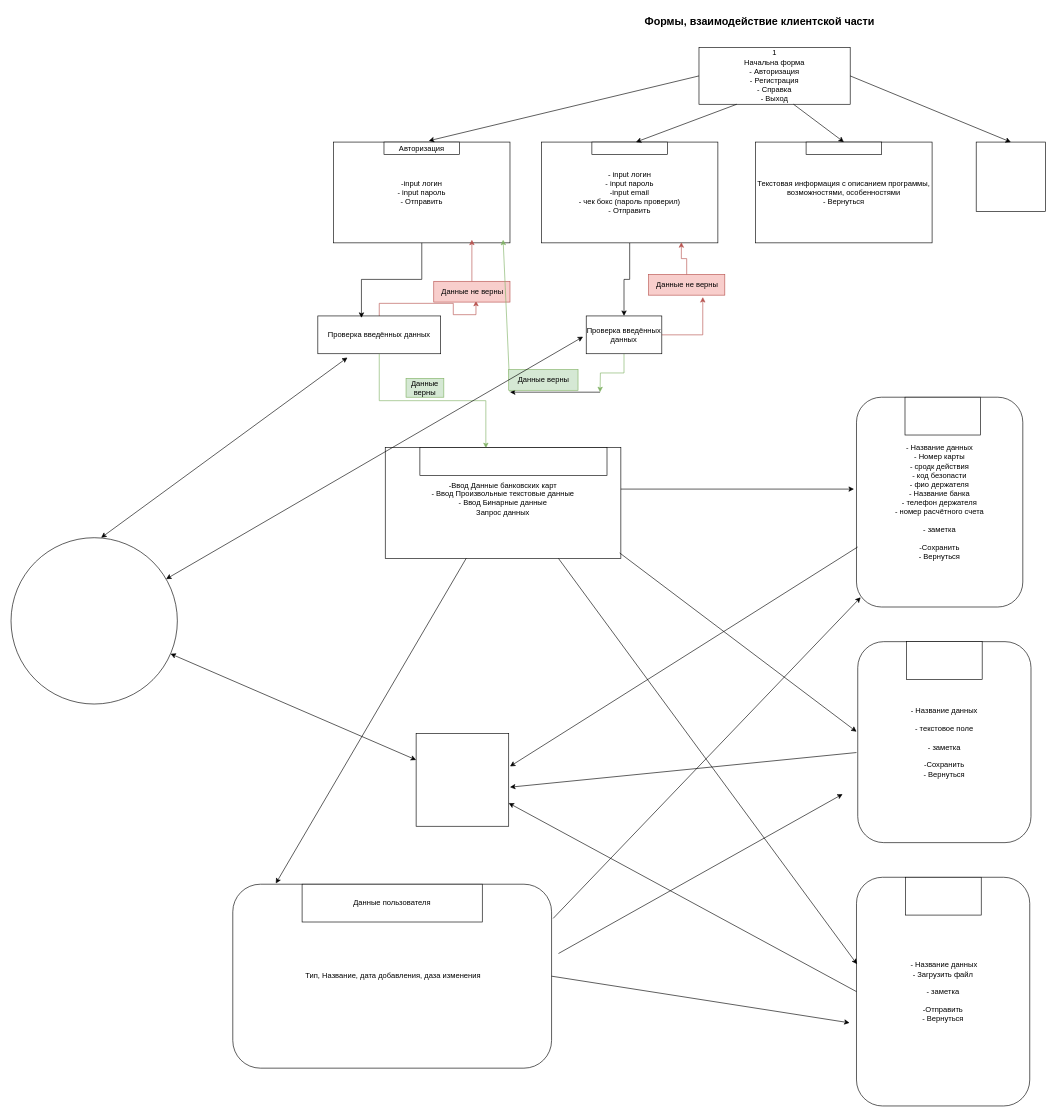
The diagram is 1057 pixels wide and 1117 high, and some of its shapes have lost their labels. The shapes that lost their labels are listed below. From the top down, each one's centre as x and y in pixels, then its label:
point (629, 148): Регистрация
point (843, 148): Справка
point (1010, 176): Выход (закрытие приложения)
point (942, 416): Данные банковских карт
point (513, 461): Доступные действия
point (93, 620): сервер
point (944, 660): Произвольные текстовые данные
point (462, 779): подготовка данных
point (943, 896): Бинарные данные
